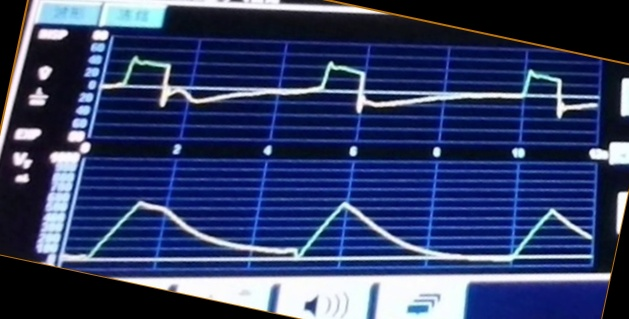Premature_cycling Flow: (108, 50, 597, 146)
Premature_cycling Volume: (79, 198, 590, 268)
